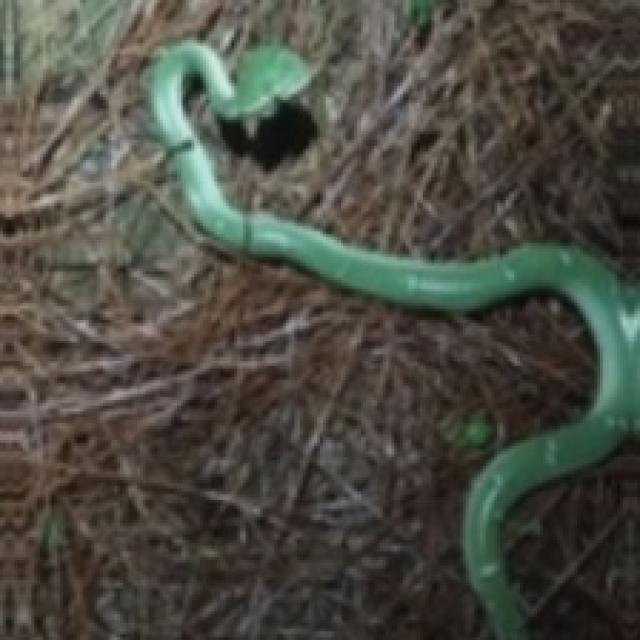north ph temple pitviper: (149, 40, 637, 637)
